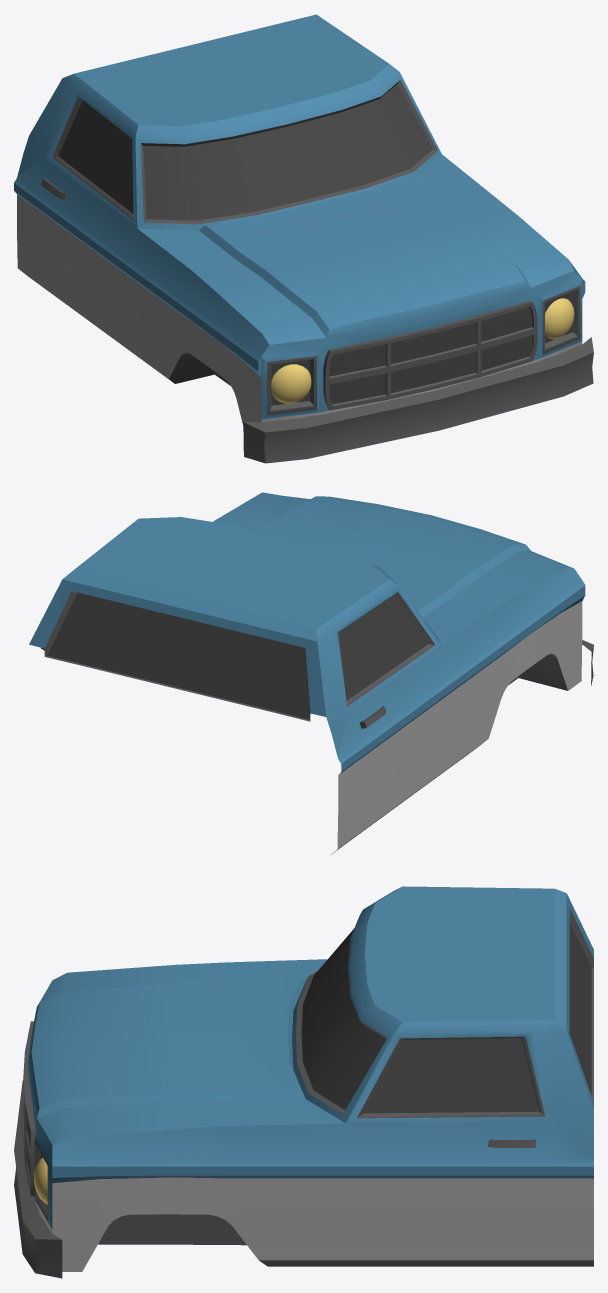
File: crawler_shell.glb
The picture shows the model from 3 angles, top to bottom: view 1: azimuth 30°, elevation 25°; view 2: azimuth 150°, elevation 25°; view 3: azimuth 270°, elevation 25°; orthographic projection. The views are drawn at different scales.
Parts seen in each view (by area): view 1: body; view 2: body; view 3: body.
Boxes of the visible parts, x1,y1,x2,y2 form: body: (14,14,593,463); body: (29,492,593,853); body: (14,886,593,1278).
Bounding box in the file's own units: 2.32 × 1.33 × 3.02.
Materials: 2 (1 with a texture image).
